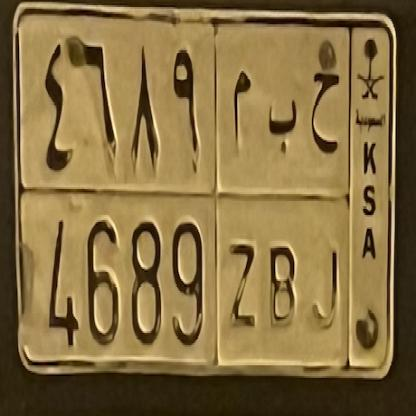english: (13, 180, 346, 371)
